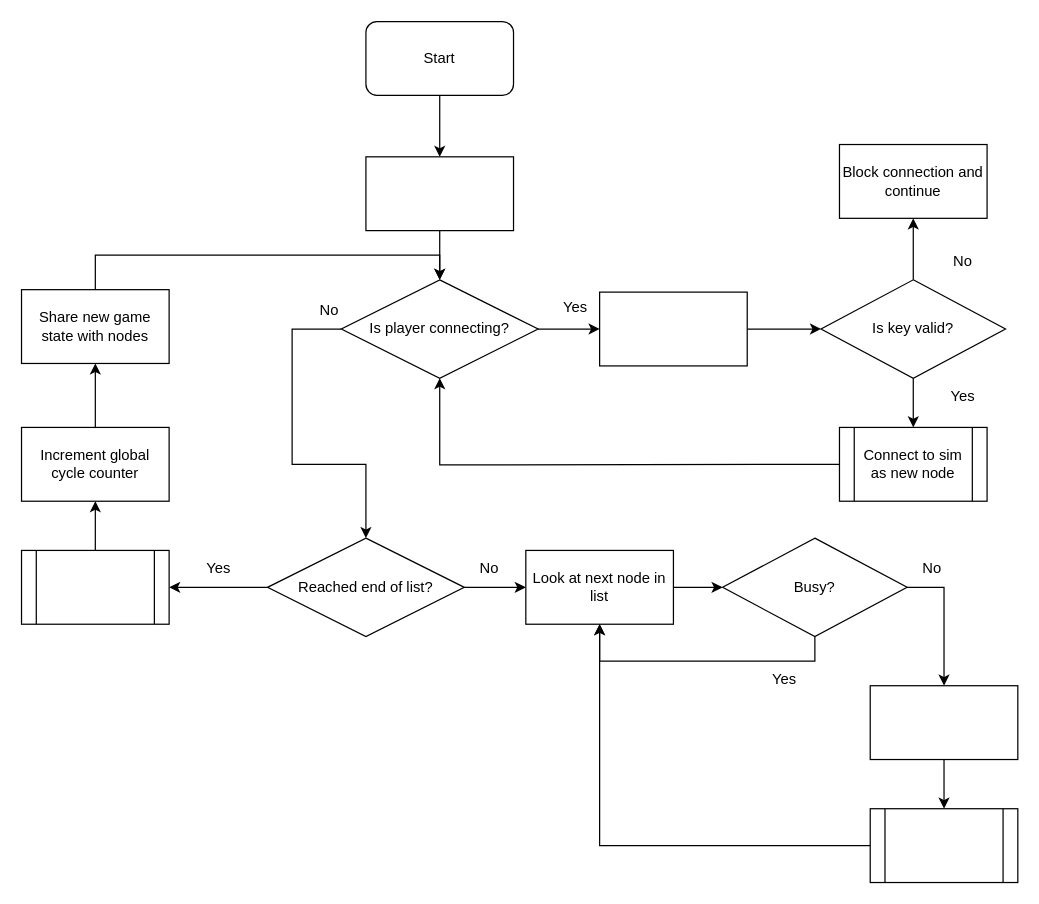
The diagram is 1039 pixels wide and 904 high, and some of its shapes have lost their labels. Here are the shapes that lost their labels. From the top down, the centre of each, then its label:
(x=439, y=193): Start NPC nodes
(x=672, y=328): Check API key against database
(x=94, y=586): Update simulation
(x=943, y=722): Fetch next item from queue
(x=943, y=845): Perform given action
